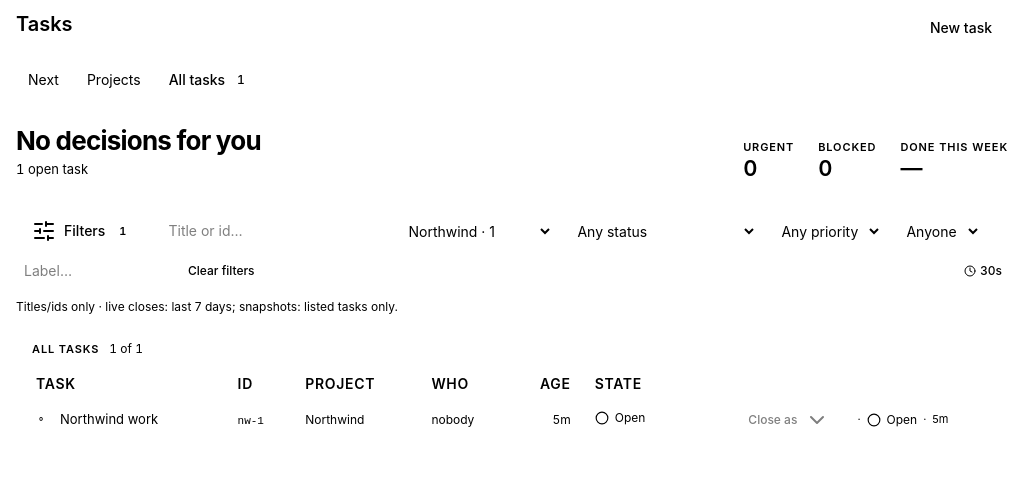
Test case: the Tasks page's tabs › keeps project scope and counts when moving between All tasks and Projects
The image size is (1024, 499).
Expected: the tab "All tasks 1" is shown, x1=169 y1=71 x2=245 y2=88
Click the tab "Projects" at (114, 80), box x1=87 y1=71 x2=141 y2=88
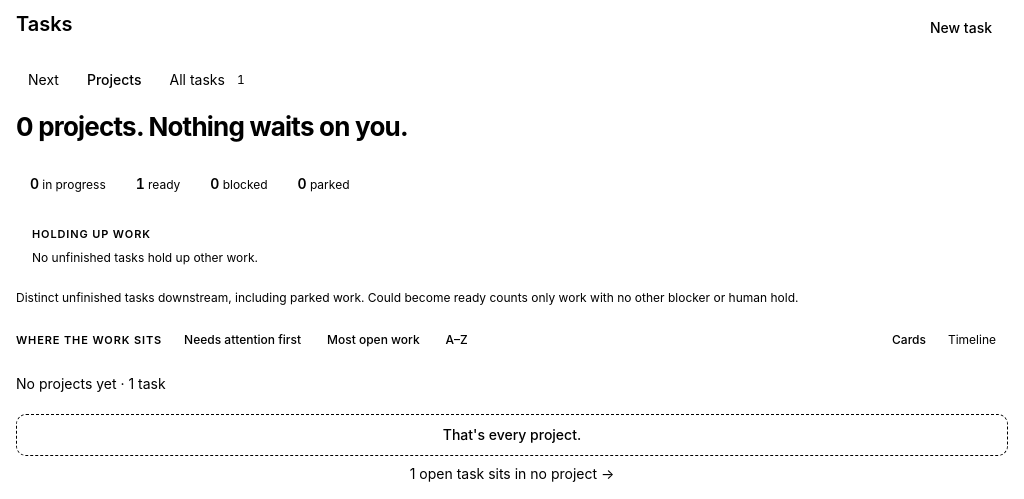
Click the tab "All tasks 1" at (207, 80), box x1=170 y1=71 x2=245 y2=88
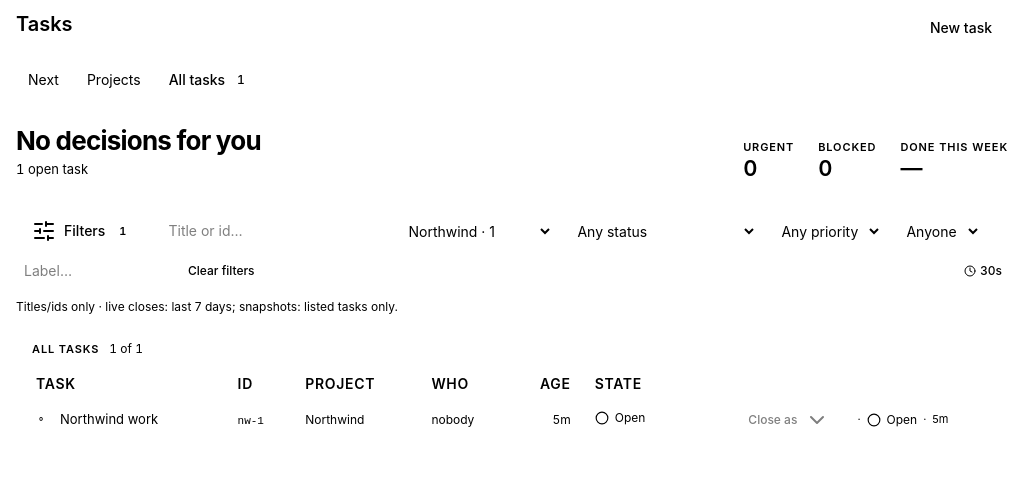
Expected: the element that starts with "No decisions for you" is shown
